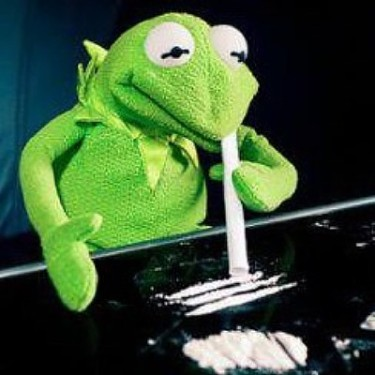kermit: (101, 12, 263, 156)
